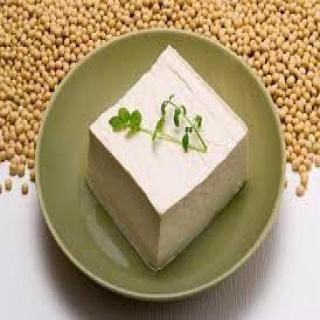Tahu: (57, 46, 255, 260)
